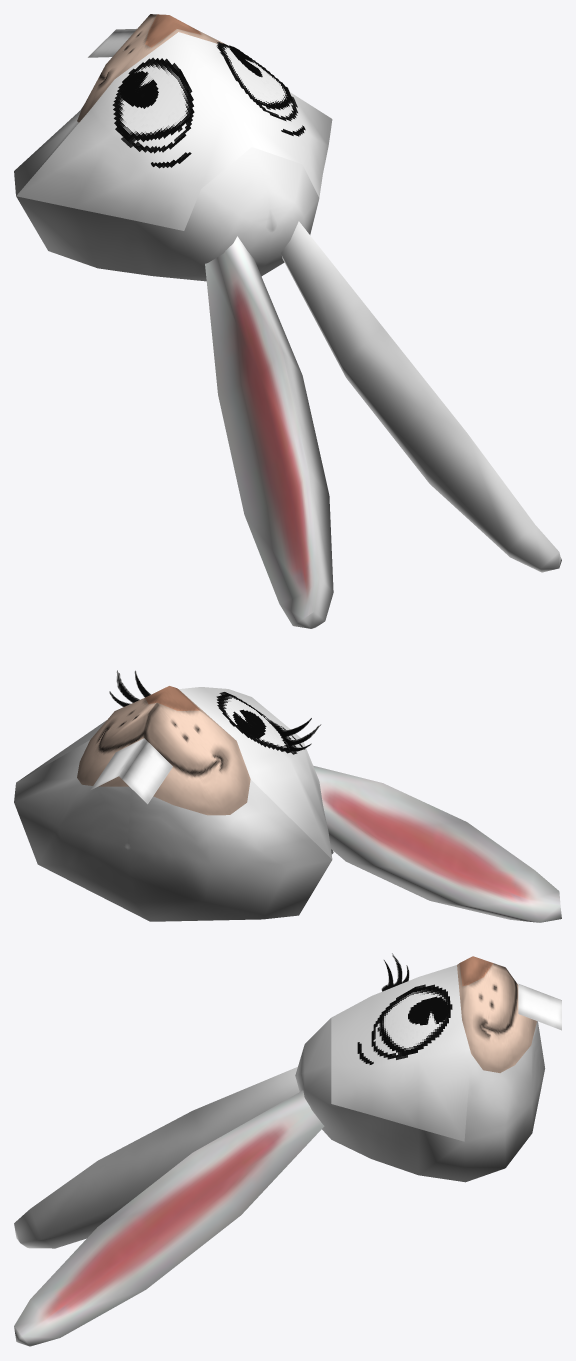
The model's file is rll.glb.
The picture shows the model from 3 angles, top to bottom: view 1: azimuth 30°, elevation 25°; view 2: azimuth 150°, elevation 25°; view 3: azimuth 270°, elevation 25°; orthographic projection. The views are drawn at different scales.
Visible parts, largest first — view 1: ears-long, head-front-long, head-long, eyes, muzzle-long-neutral, joint_pupilL_long; view 2: head-long, ears-long, muzzle-long-neutral, head-front-long, RabbitHead1000Polys, eyes, eyelashes, joint_pupilL_long; view 3: ears-long, head-long, head-front-long, muzzle-long-neutral, eyes, RabbitHead1000Polys, joint_pupilR_long.
Part boxes in pixels (x1=…): ears-long: x1=205, y1=221, x2=561, y2=628; head-front-long: x1=16, y1=32, x2=332, y2=230; head-long: x1=14, y1=105, x2=319, y2=281; eyes: x1=112, y1=42, x2=305, y2=168; muzzle-long-neutral: x1=77, y1=14, x2=228, y2=122; joint_pupilL_long: x1=118, y1=71, x2=158, y2=108; head-long: x1=14, y1=740, x2=331, y2=921; ears-long: x1=313, y1=765, x2=561, y2=922; muzzle-long-neutral: x1=77, y1=686, x2=250, y2=815; head-front-long: x1=17, y1=687, x2=332, y2=859; RabbitHead1000Polys: x1=90, y1=738, x2=172, y2=804; eyes: x1=216, y1=692, x2=304, y2=754; eyelashes: x1=109, y1=670, x2=321, y2=752; joint_pupilL_long: x1=232, y1=709, x2=266, y2=739; ears-long: x1=14, y1=1067, x2=324, y2=1346; head-long: x1=295, y1=1018, x2=545, y2=1182; head-front-long: x1=331, y1=965, x2=470, y2=1141; muzzle-long-neutral: x1=457, y1=956, x2=536, y2=1072; eyes: x1=357, y1=984, x2=452, y2=1064; RabbitHead1000Polys: x1=518, y1=983, x2=561, y2=1030; joint_pupilR_long: x1=408, y1=996, x2=449, y2=1025.
Bounding box in the file's own units: 1.37 × 1.64 × 2.4.
Materials: 7 (7 with a texture image).
